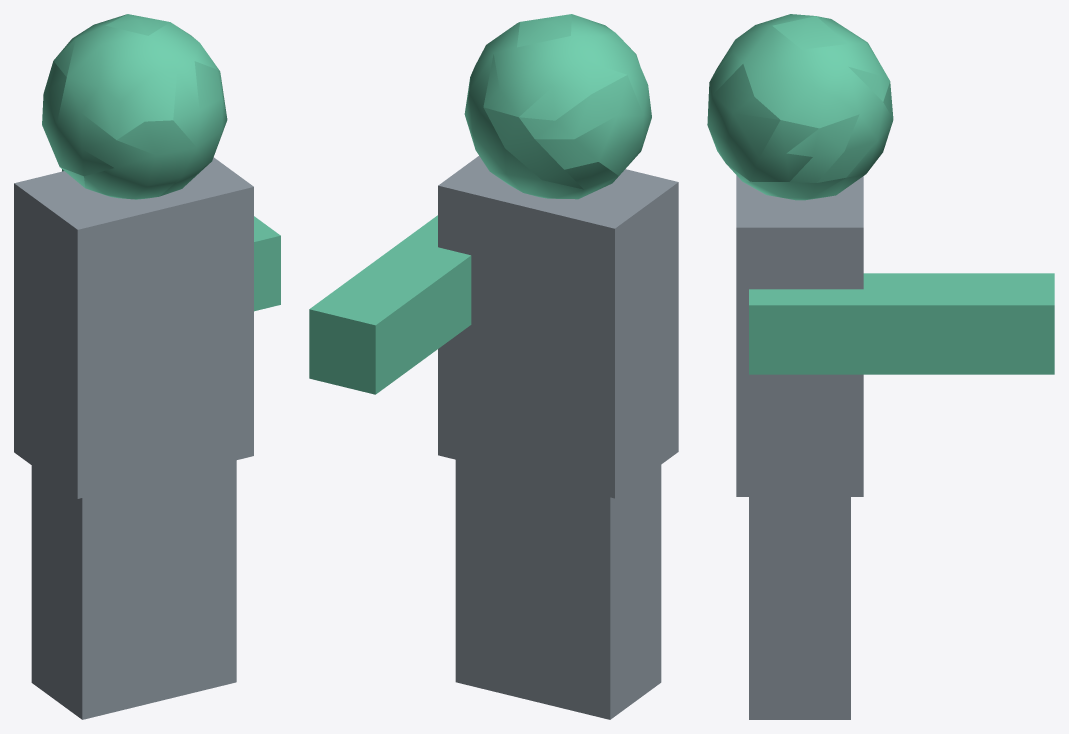
File: CO_JieTechnician_LOD2.glb
The picture shows the model from 3 angles, left to right: view 1: azimuth 30°, elevation 25°; view 2: azimuth 150°, elevation 25°; view 3: azimuth 270°, elevation 25°; orthographic projection.
Parts seen in each view (by area): view 1: Head; view 2: Head; view 3: Head.
Boxes of the visible parts, x1=… form: Head: x1=14, y1=14, x2=280, y2=719; Head: x1=309, y1=14, x2=678, y2=719; Head: x1=707, y1=14, x2=1054, y2=719.
Bounding box in the file's own units: 57 × 172 × 81.81.
